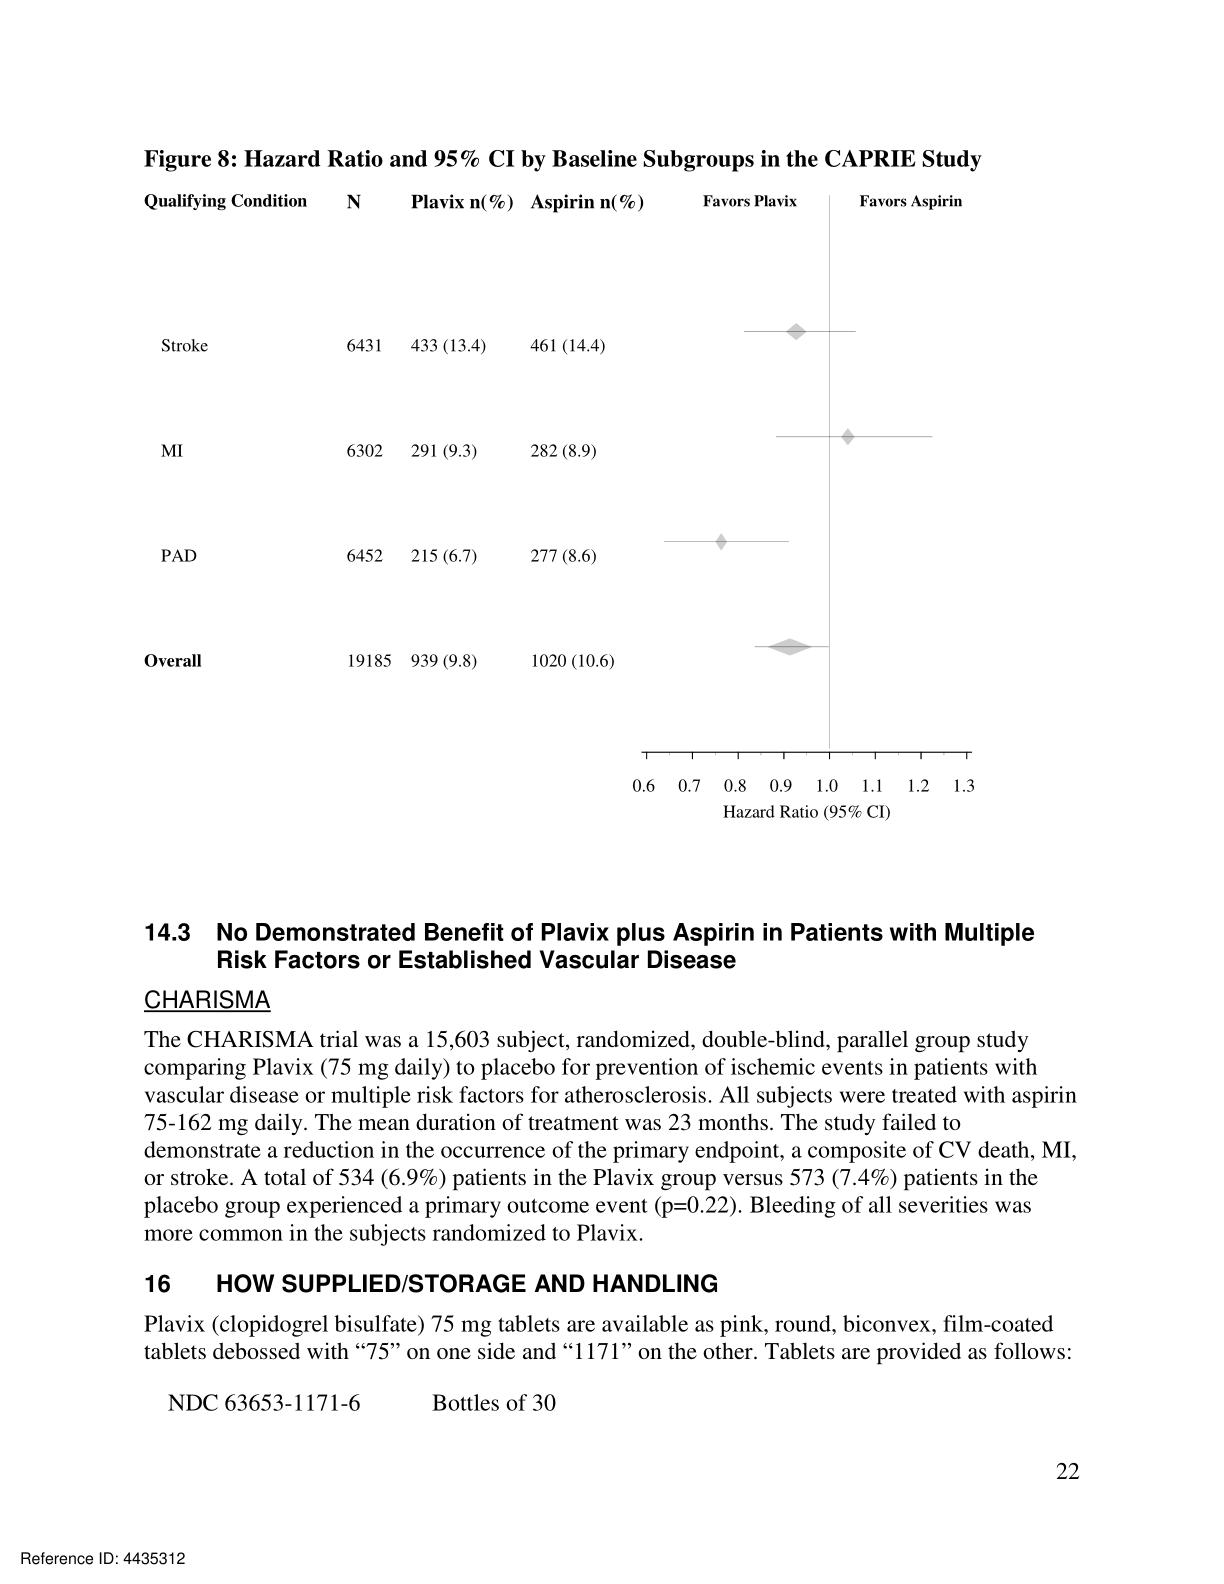nolines: (132, 183, 968, 690)
